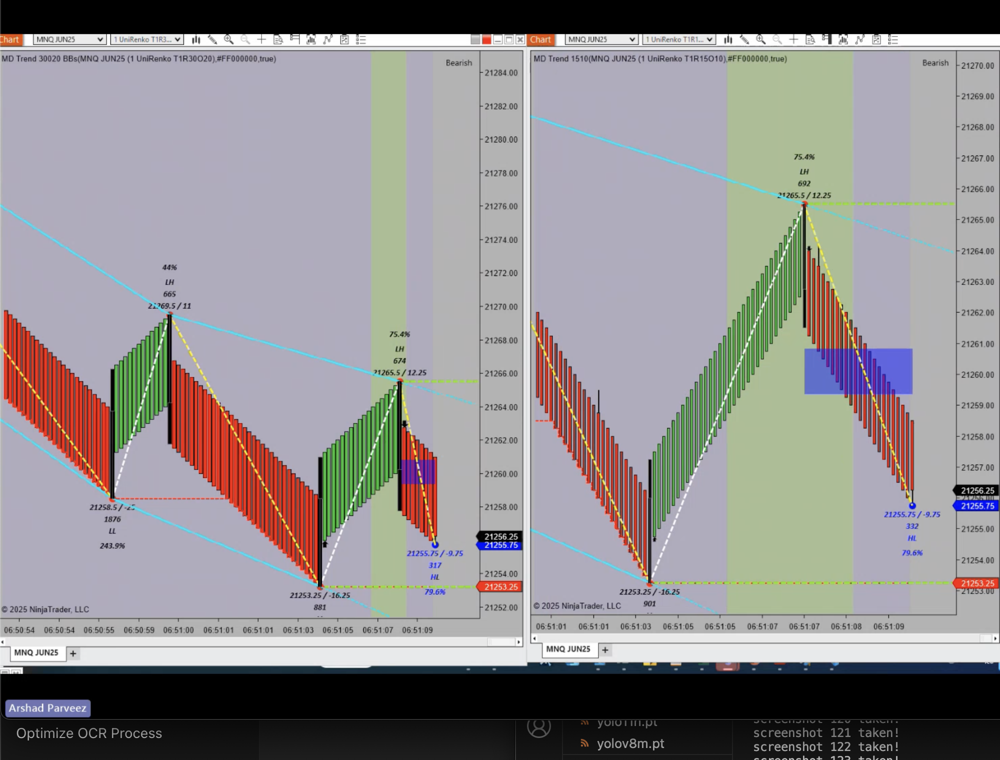HL: (902, 530, 927, 549), (424, 569, 448, 586)
LH: (160, 271, 182, 291), (388, 342, 415, 358), (796, 163, 817, 179)
LL: (103, 523, 126, 539)
